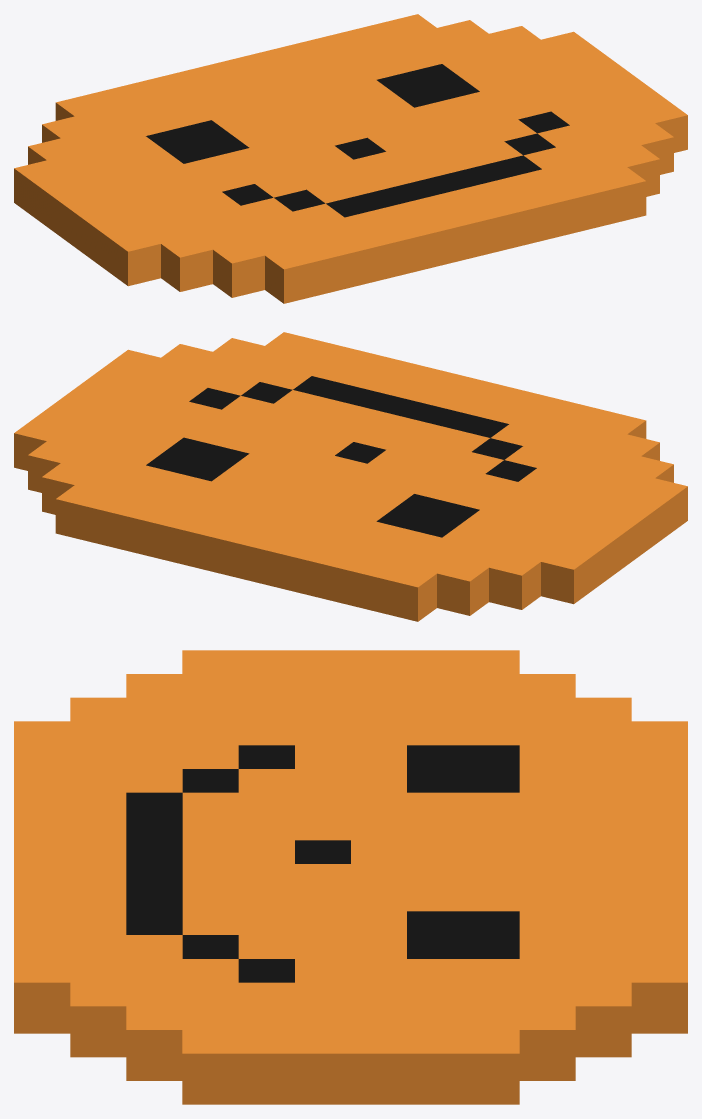
File: smile.glb
3 views of the same model, one above another, from view 1: azimuth 30°, elevation 25°; view 2: azimuth 150°, elevation 25°; view 3: azimuth 270°, elevation 25° (orthographic). The views are drawn at different scales.
Visible parts, largest first — view 1: Untitled; view 2: Untitled; view 3: Untitled.
Part boxes in pixels (x1,y1,x2,y2): Untitled: (14,14,687,303); Untitled: (14,332,687,621); Untitled: (14,650,687,1104).
Size of the model in its own units: 1.7 by 0.1 by 1.2.
Materials: 1 (1 with a texture image).
